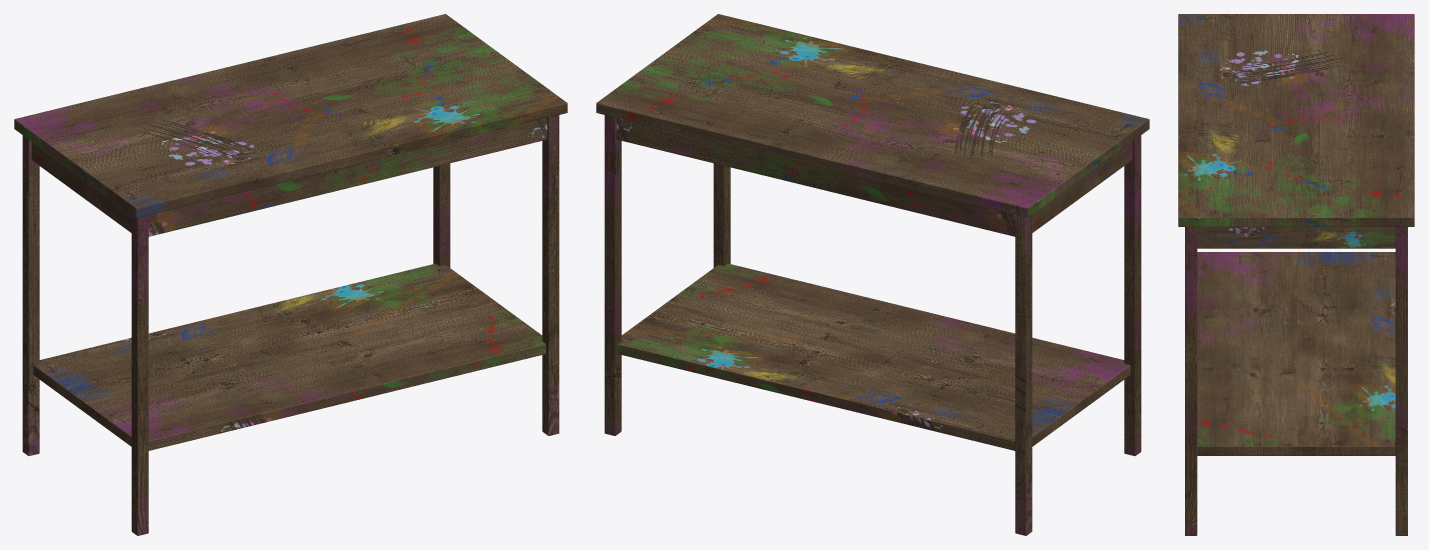
The model's file is Bench.FBX.
3 views of the same model, side by side, from view 1: azimuth 30°, elevation 25°; view 2: azimuth 150°, elevation 25°; view 3: azimuth 270°, elevation 25° (orthographic). The views are drawn at different scales.
Parts seen in each view (by area): view 1: Bench; view 2: Bench; view 3: Bench.
Boxes of the visible parts, bbox=[...] form: Bench: bbox=[14, 14, 567, 535]; Bench: bbox=[596, 14, 1149, 535]; Bench: bbox=[1178, 14, 1414, 535].
Bounding box in the file's own units: 124 × 91.44 × 60.96.
1 material, 1 textured.
